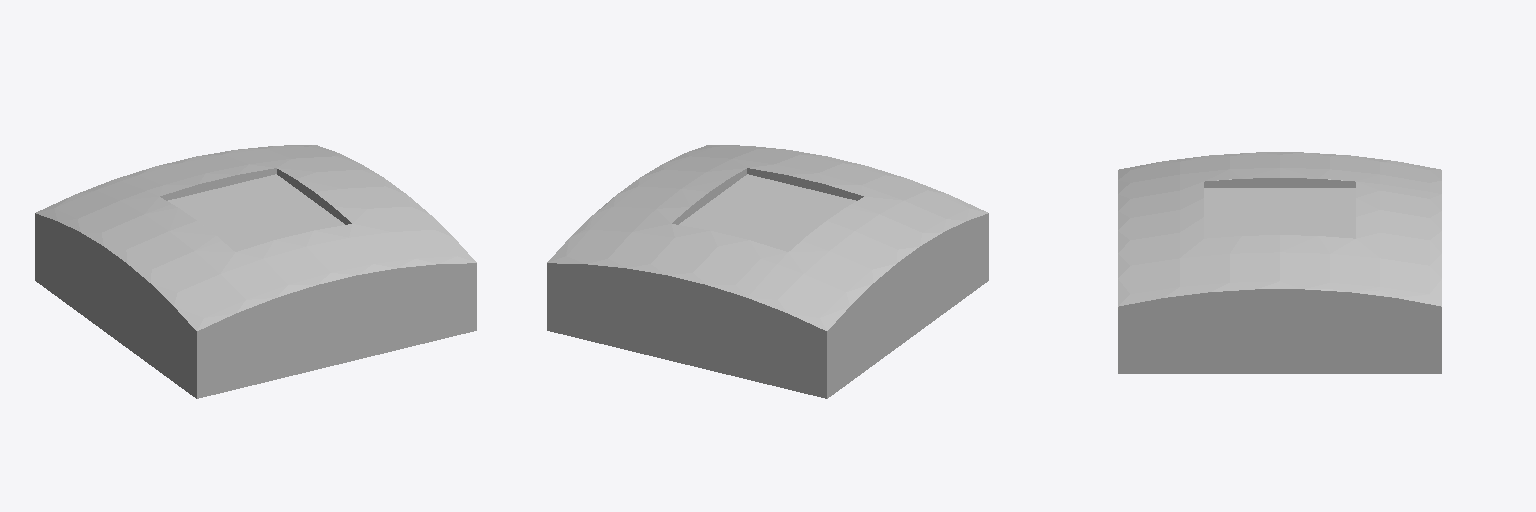
File: NodeMCU.obj
The picture shows the model from 3 angles: view 1: azimuth 30°, elevation 25°; view 2: azimuth 150°, elevation 25°; view 3: azimuth 270°, elevation 25°; orthographic projection.
Parts seen in each view (by area): view 1: NodeMCU; view 2: NodeMCU; view 3: NodeMCU.
Boxes of the visible parts, <box> form: NodeMCU: <box>35,145,476,398</box>; NodeMCU: <box>547,145,988,398</box>; NodeMCU: <box>1118,152,1441,373</box>.
Size of the model in its own units: 0.2875 by 0.0971 by 0.2875.